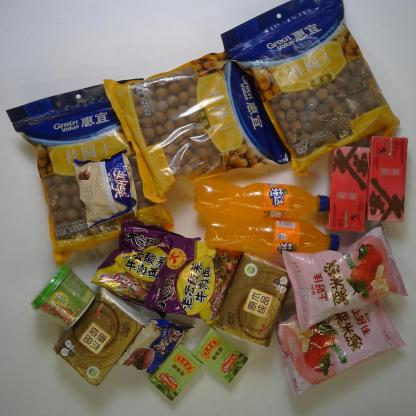Candy: (148, 342, 204, 402), (192, 330, 249, 386)
Dessert: (71, 148, 139, 228), (114, 312, 195, 378)
Dried Food: (3, 77, 178, 265), (219, 0, 402, 176), (102, 45, 304, 203)
Drink: (204, 213, 341, 256), (192, 177, 330, 219)
Instant Drink: (28, 262, 96, 330), (326, 143, 370, 233), (366, 132, 408, 224)
Instant Noodles: (93, 217, 202, 320), (146, 232, 245, 326)
Puffed Food: (272, 292, 405, 402), (280, 223, 409, 334)
Tissue: (52, 288, 151, 390), (212, 252, 294, 349)
